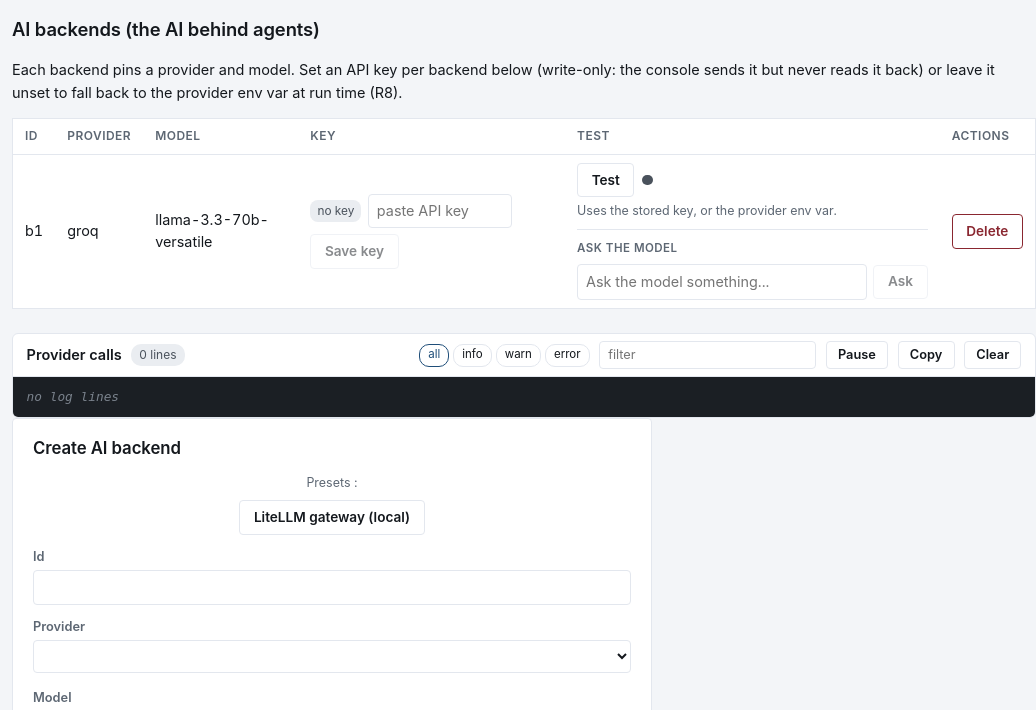
Test case: AiBackendsPanel › Save is disabled while the key input is empty
Expected: the button "Save key" is disabled, [310,234,399,269]
Type "x" into the password field named "API key for b1" at (440, 211), box [368,194,512,228]
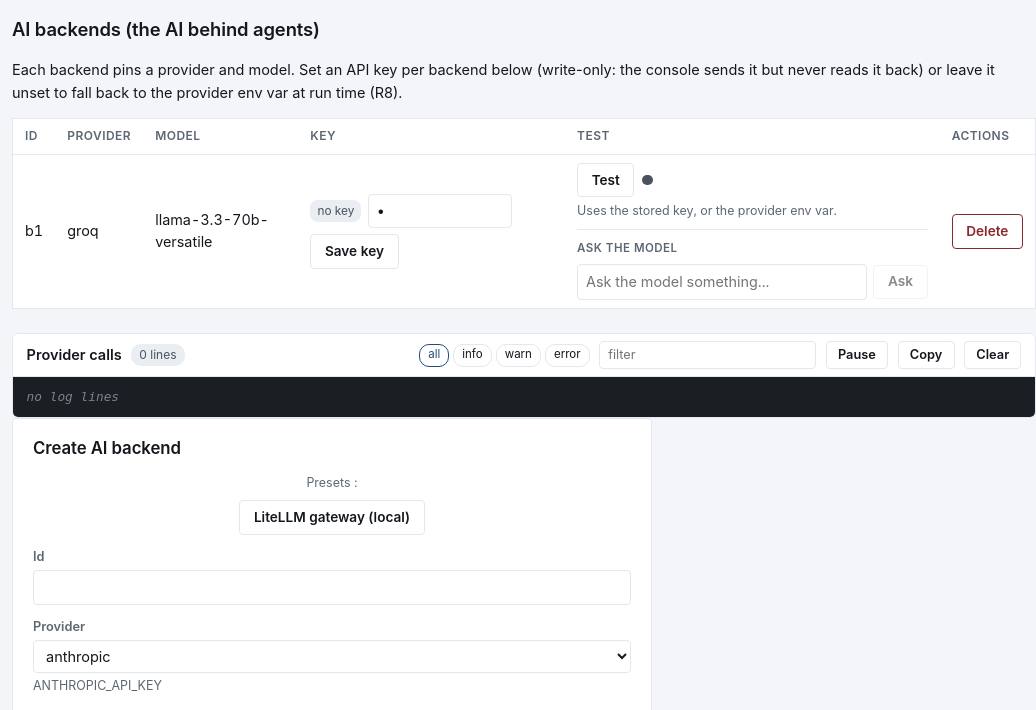
Expected: the button "Save key" is enabled, [310,234,399,269]
